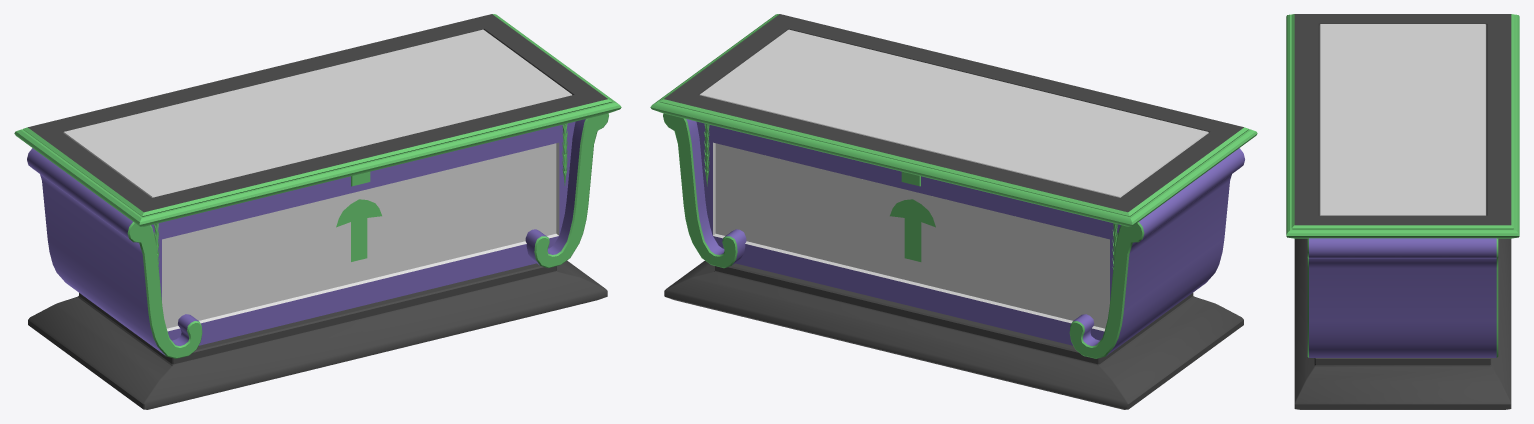
Rendered from SZZ002.FBX.
3 renders of one model, left to right at view 1: azimuth 30°, elevation 25°; view 2: azimuth 150°, elevation 25°; view 3: azimuth 270°, elevation 25°, orthographic. The views are drawn at different scales.
Visible parts, largest first — view 1: SZZ002; view 2: SZZ002; view 3: SZZ002.
Boxes of the visible parts, left/top/right/bottom form: SZZ002: left=14, top=14, right=621, bottom=409; SZZ002: left=650, top=14, right=1257, bottom=409; SZZ002: left=1286, top=14, right=1519, bottom=409.
Bounding box in the file's own units: 200 × 90 × 80.
